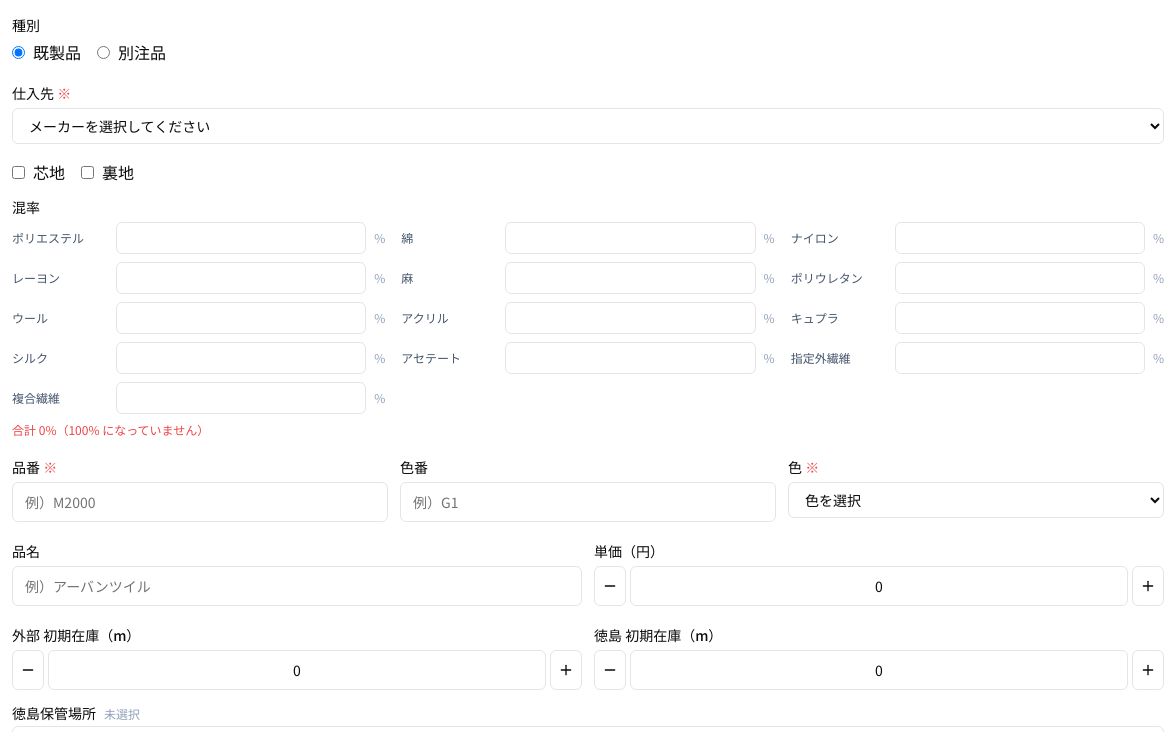
ProductForm 混率 › 合計が100%でないとき警告を表示する
Type "60" into the field labelled "ポリエステル" at [241, 238], box [116, 222, 366, 254]
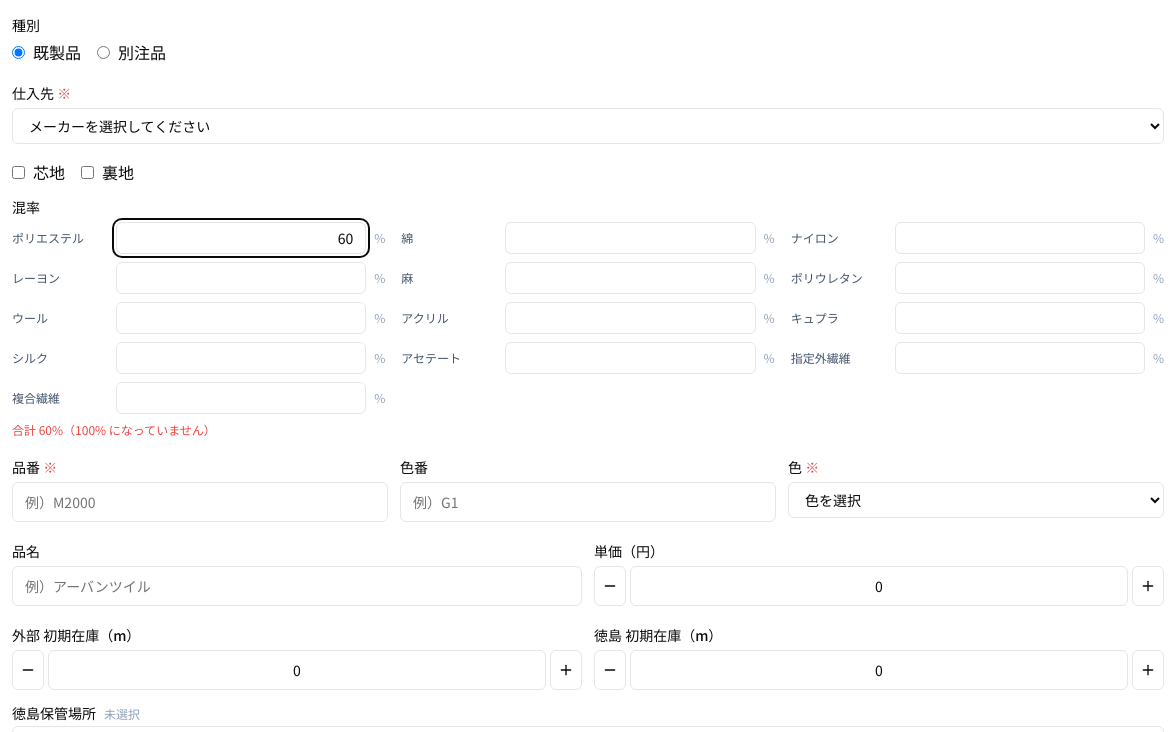
Result: the text "合計 60%（100% になっていません）" is shown at [12, 421, 216, 438]
